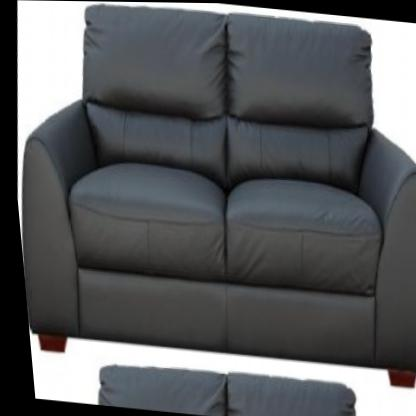Sofa: (0, 0, 416, 393)
